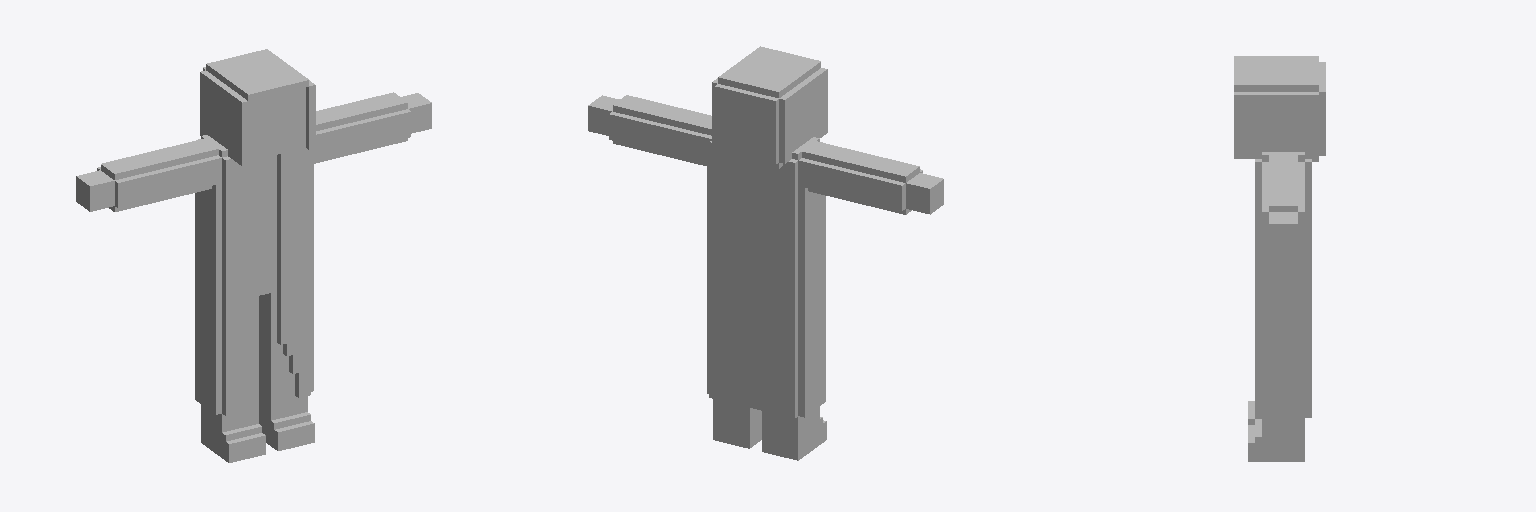
The model's file is StalVox Bandit Plasch.obj.
3 views of the same model, side by side, from view 1: azimuth 30°, elevation 25°; view 2: azimuth 150°, elevation 25°; view 3: azimuth 270°, elevation 25° (orthographic).
Parts seen in each view (by area): view 1: StalVox Bandit Plasch; view 2: StalVox Bandit Plasch; view 3: StalVox Bandit Plasch.
Boxes of the visible parts, x1=… form: StalVox Bandit Plasch: x1=76, y1=49, x2=431, y2=462; StalVox Bandit Plasch: x1=588, y1=46, x2=943, y2=460; StalVox Bandit Plasch: x1=1234, y1=56, x2=1325, y2=461.
Bounding box in the file's own units: 56 × 58 × 13.